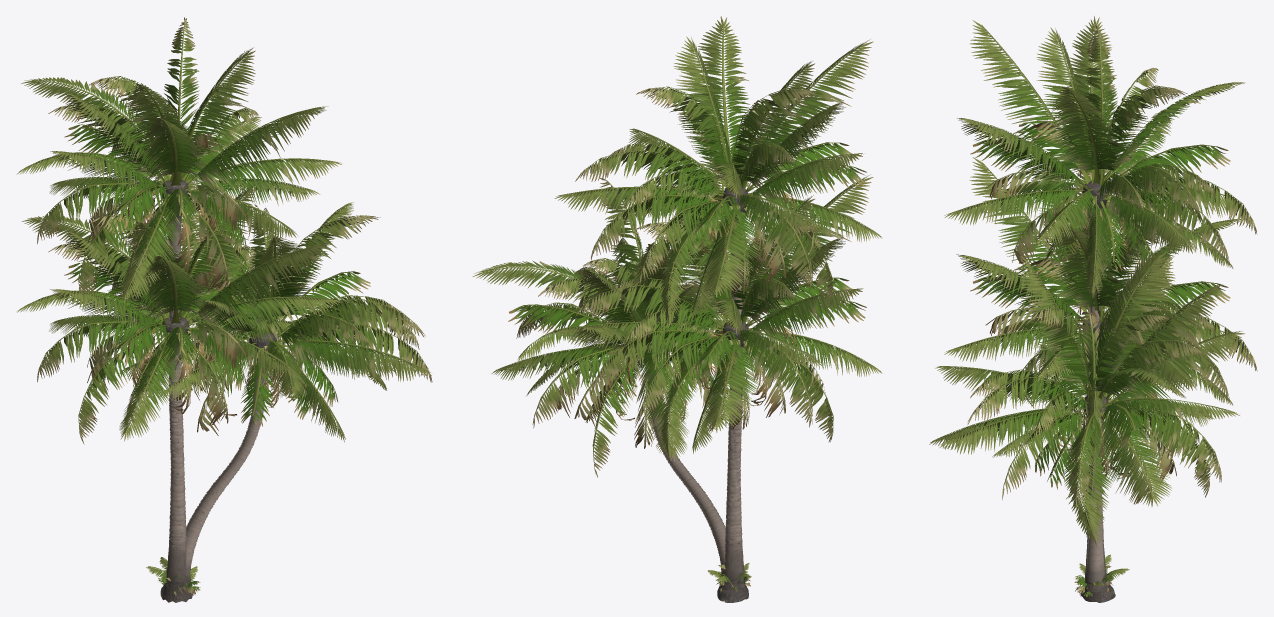
File: sm_palm.glb
3 renders of one model, left to right at view 1: azimuth 30°, elevation 25°; view 2: azimuth 150°, elevation 25°; view 3: azimuth 270°, elevation 25°, orthographic. The views are drawn at different scales.
Parts seen in each view (by area): view 1: SM_Palm_03, SM_Palm_01, SM_Palm_02; view 2: SM_Palm_03, SM_Palm_01, SM_Palm_02; view 3: SM_Palm_02, SM_Palm_03, SM_Palm_01, SM_Palm_Bush01.
Part boxes in pixels (<box>): SM_Palm_03: <box>16,17,341,591</box>; SM_Palm_01: <box>17,181,341,508</box>; SM_Palm_02: <box>119,178,432,602</box>; SM_Palm_03: <box>554,16,881,590</box>; SM_Palm_01: <box>554,167,882,508</box>; SM_Palm_02: <box>472,178,800,602</box>; SM_Palm_02: <box>929,249,1244,602</box>; SM_Palm_03: <box>944,16,1257,591</box>; SM_Palm_01: <box>944,157,1257,433</box>; SM_Palm_Bush01: <box>1074,554,1129,594</box>.
Size of the model in its own units: 21.45 by 30 by 16.69.
2 materials, 2 textured.
